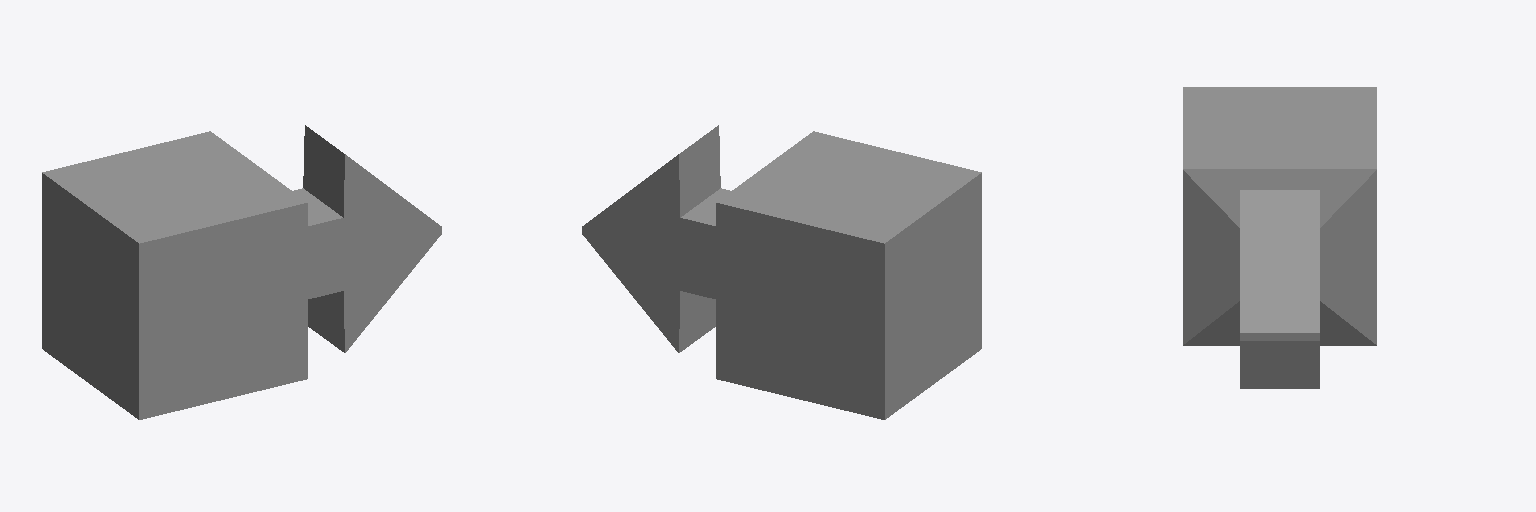
The model's file is dummy.obj.
3 views of the same model, side by side, from view 1: azimuth 30°, elevation 25°; view 2: azimuth 150°, elevation 25°; view 3: azimuth 270°, elevation 25° (orthographic).
Visible parts, largest first — view 1: Cube; view 2: Cube; view 3: Cube.
Boxes of the visible parts, box(x1,y1,x2,y2) form: Cube: box(42, 125, 441, 419); Cube: box(582, 125, 981, 419); Cube: box(1183, 87, 1376, 388).
Size of the model in its own units: 1.31 by 0.7559 by 0.6693.